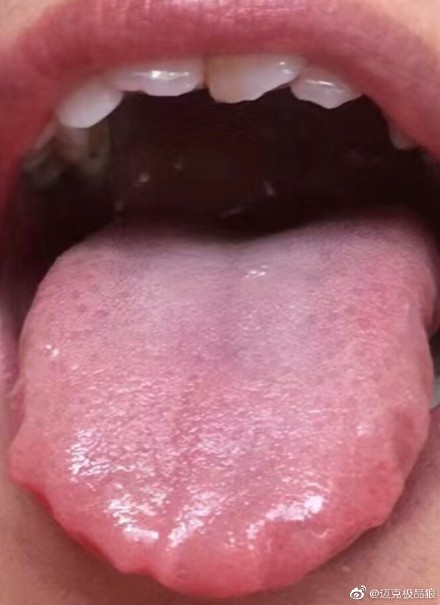chihenshe: (8, 453, 167, 585)
hongshe: (6, 209, 440, 597)
